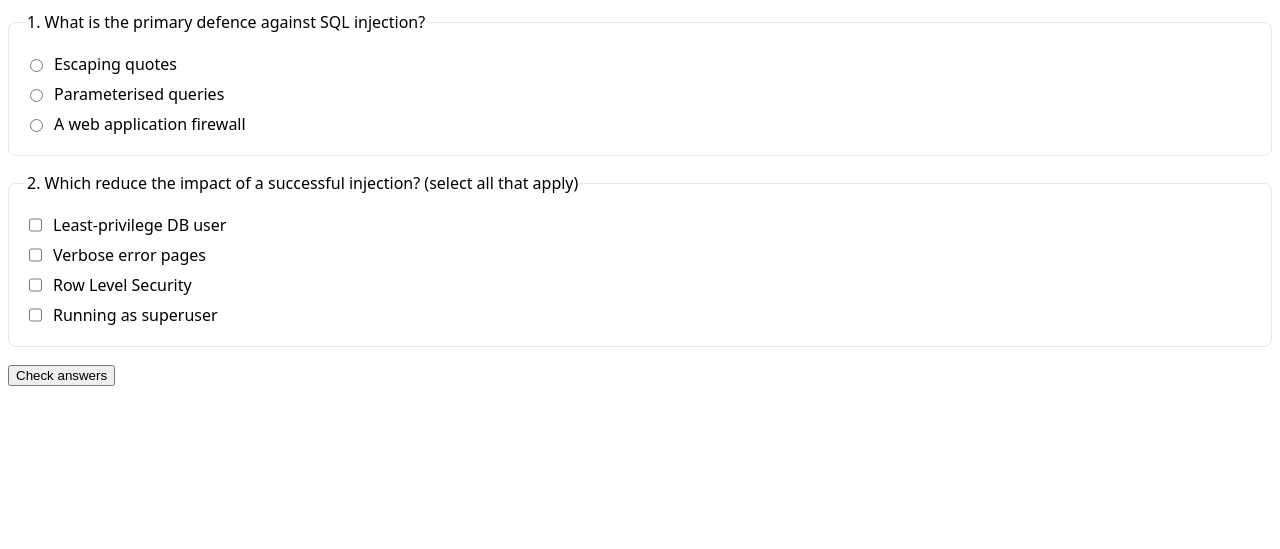
Test: QuizView › offers a retry after failing
This screenshot has width=1280, height=549.
What coordinates should you click on to do the following:
click the radio button labelled "Escaping quotes"
I would click on:
 (36, 66)
Its box is [30,56,43,75].
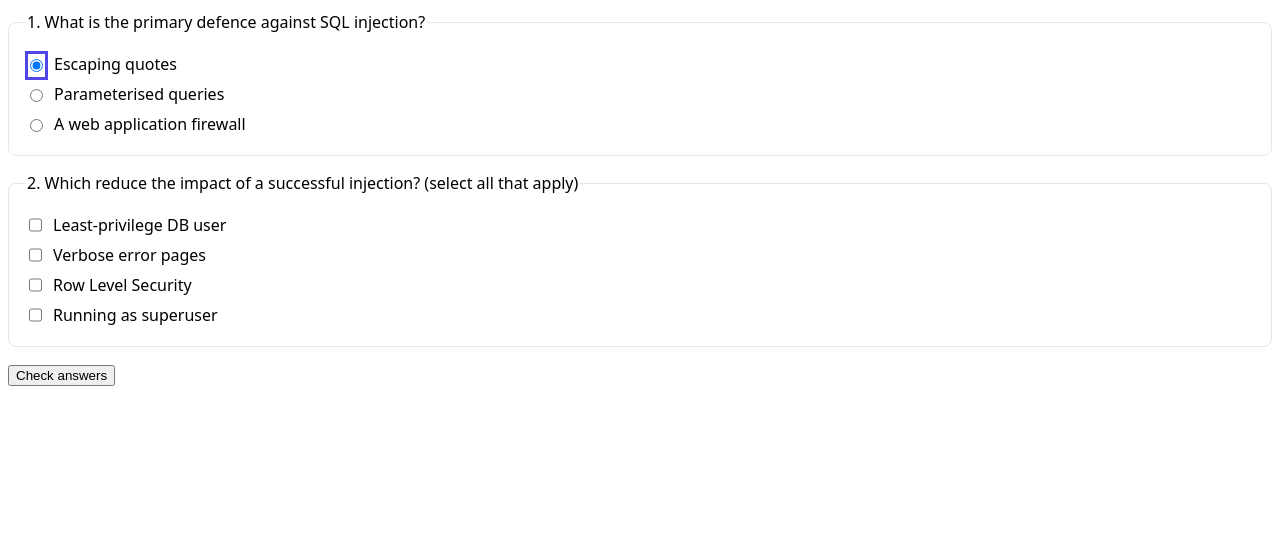
What coordinates should you click on to do the following:
click the checkbox labelled "Running as superuser"
I would click on:
 (36, 315)
Its box is [29,307,42,323].
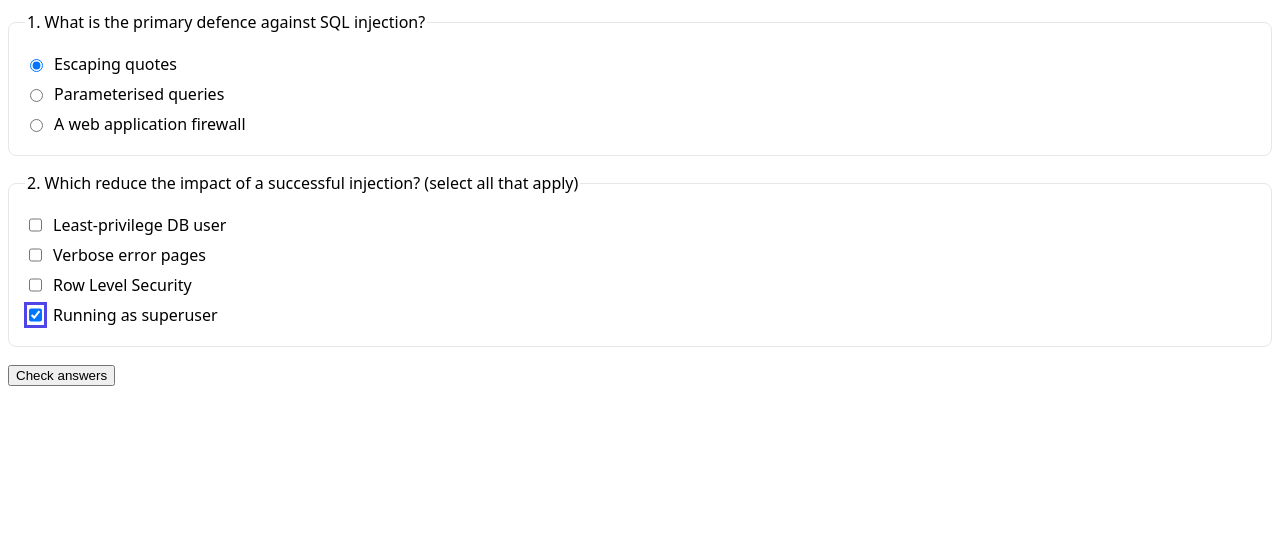
What coordinates should you click on to do the following:
click the button "Check answers"
I would click on:
 (62, 376)
Its box is [8,365,115,386].
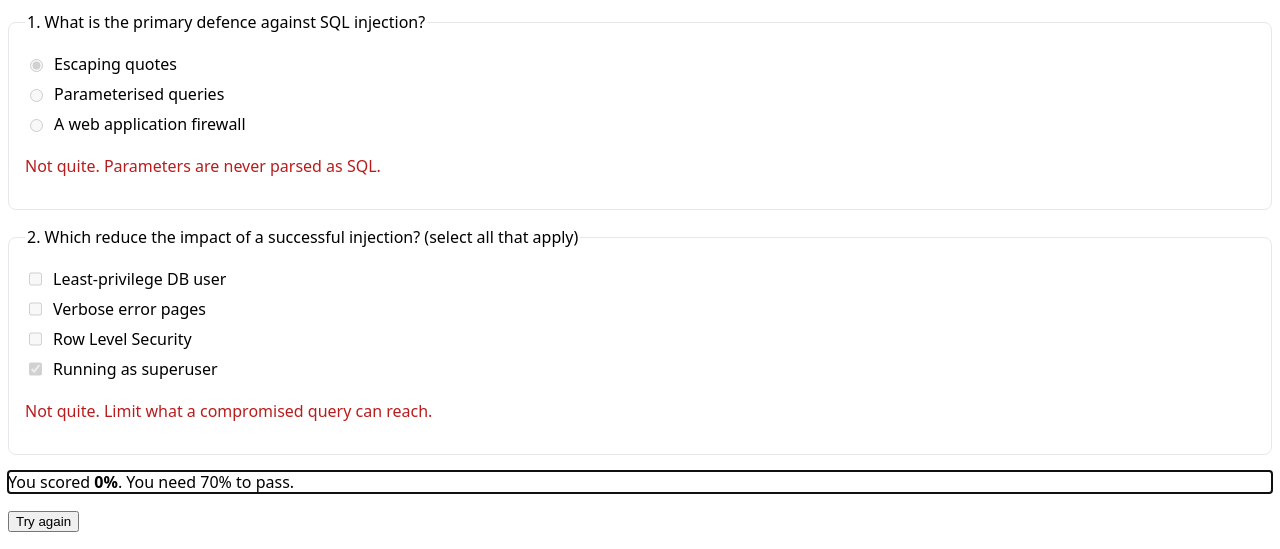
What coordinates should you click on to do the following:
click the button "Try again"
I would click on:
 (44, 522)
Its box is [8,511,79,532].
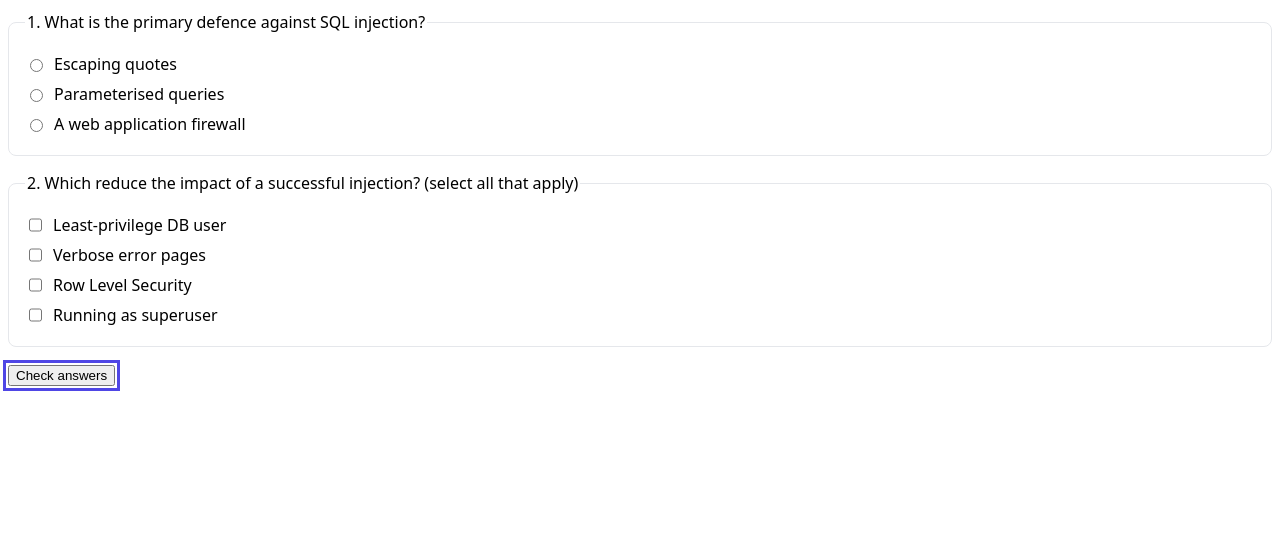
Expected: the radio button labelled "Escaping quotes" is not checked, [30,56,43,75]
